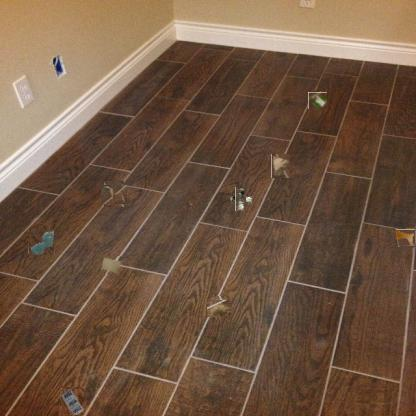dirty: (60, 388, 84, 416), (102, 182, 126, 206), (209, 297, 230, 319), (271, 154, 290, 178), (102, 256, 122, 274), (308, 92, 327, 110), (232, 191, 250, 208)
liquid: (29, 229, 54, 255), (397, 228, 416, 247)
